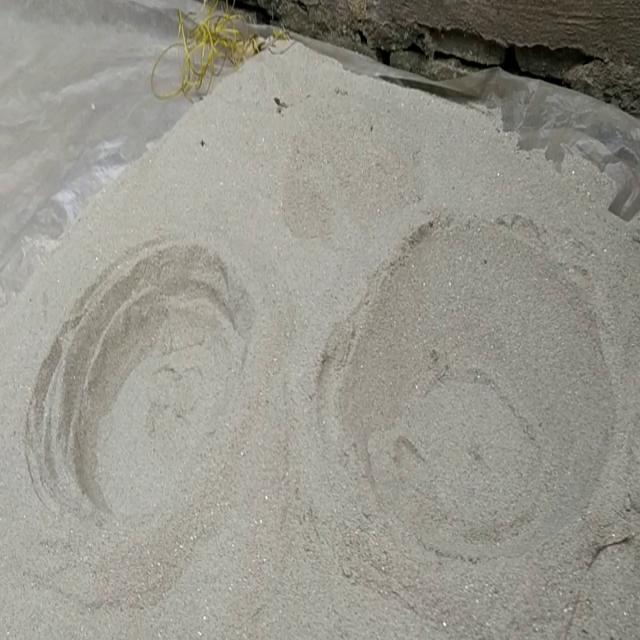C20: (326, 222, 612, 556), (42, 249, 251, 521)
